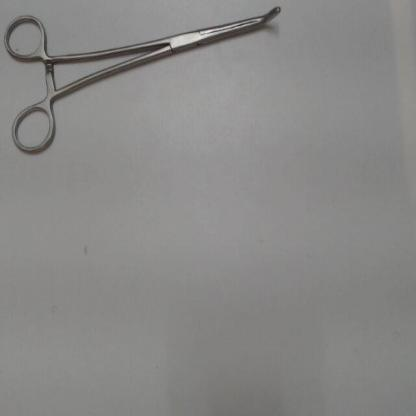Lahey Forceps: (1, 2, 288, 161)
